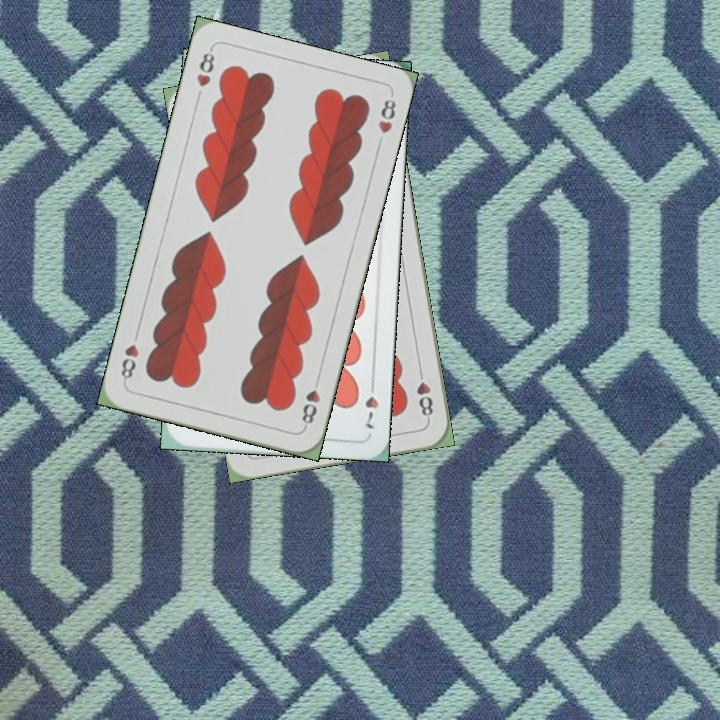H7: (361, 375, 381, 431)
H8: (297, 372, 323, 431), (412, 364, 436, 423), (192, 45, 217, 90)
